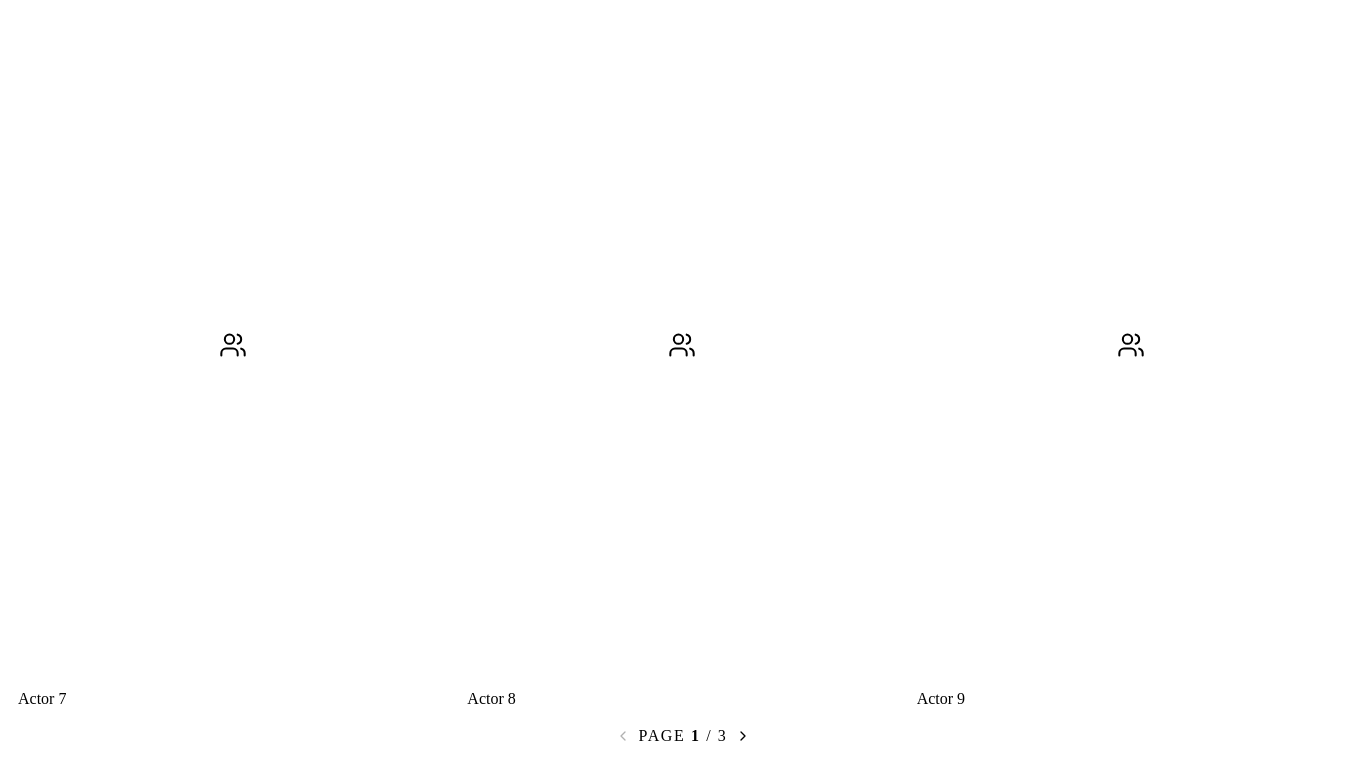
CoActorGrid › paginates the cast at 9 per page
This screenshot has width=1366, height=760.
(page scrolled)
Check: the button with aria-label "Pick Actor 9" is shown, box [907,8,1356,716]
Check: the element named "Cast pagination" reads "Page 1 / 3", box [607,720,759,752]
Step 1. Click the button named "Next page" → (743, 736), box [727,720,759,752]
(page scrolled)
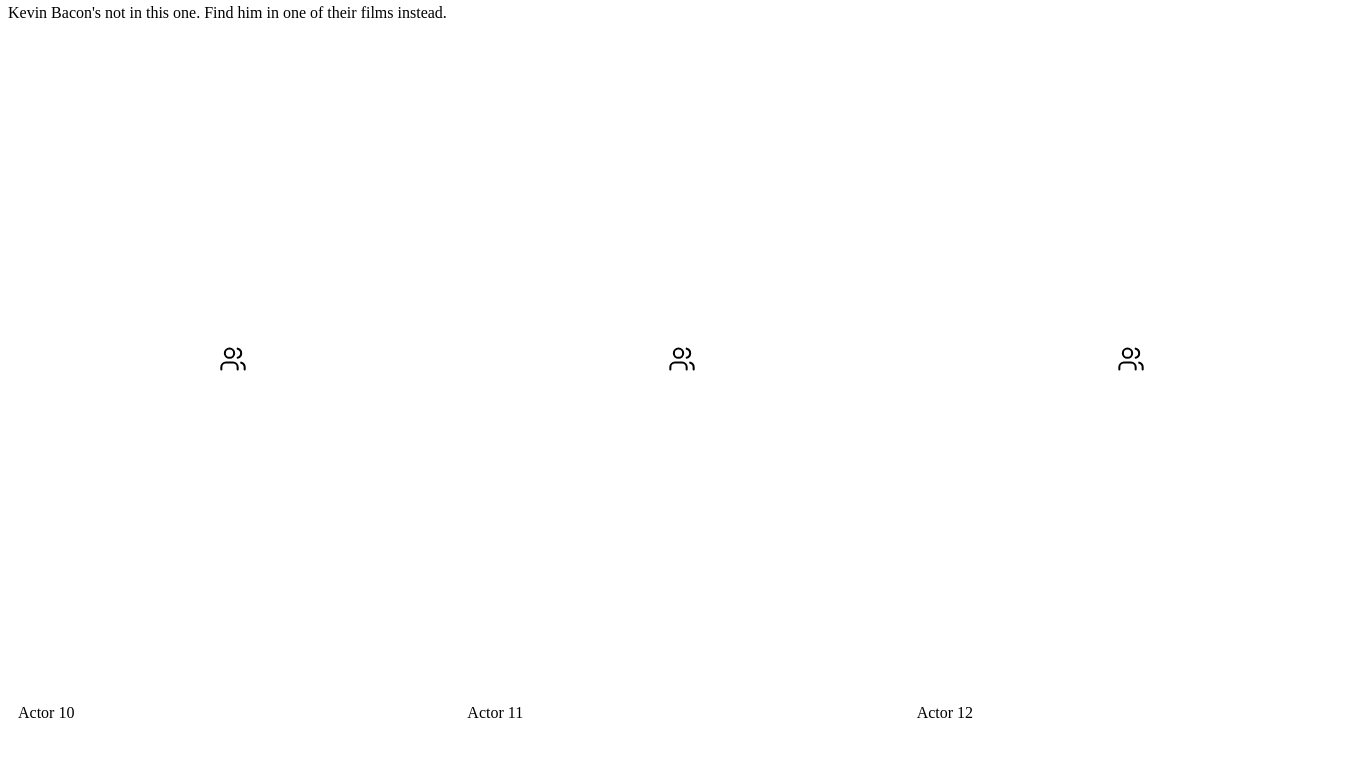
Check: the button with aria-label "Pick Actor 10" is shown, box [8,22,457,730]
